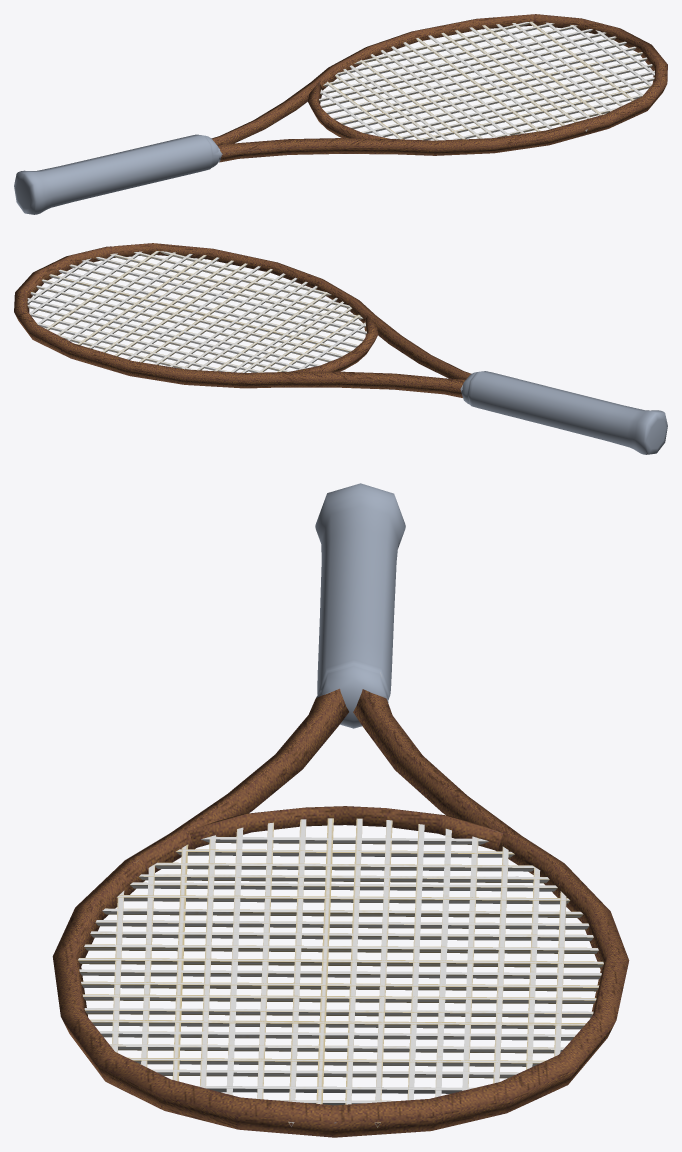
Rendered from tennis_racket.obj.
3 views of the same model, one above another, from view 1: azimuth 30°, elevation 25°; view 2: azimuth 150°, elevation 25°; view 3: azimuth 270°, elevation 25° (orthographic). The views are drawn at different scales.
Parts seen in each view (by area): view 1: tennis_racket_01; view 2: tennis_racket_01; view 3: tennis_racket_01.
Boxes of the visible parts, x1,y1,x2,y2 form: tennis_racket_01: (14,14,667,214); tennis_racket_01: (14,243,667,454); tennis_racket_01: (52,483,629,1137).
Bounding box in the file's own units: 0.6516 × 0.0411 × 0.2615.
Materials: 1 (1 with a texture image).
